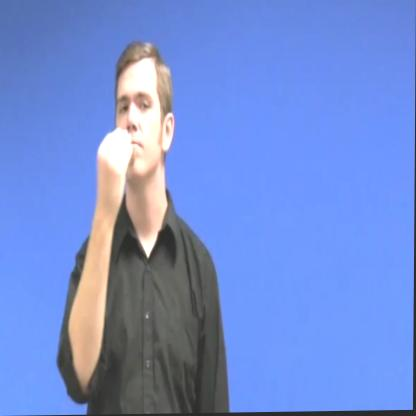Food: (89, 32, 183, 206)
